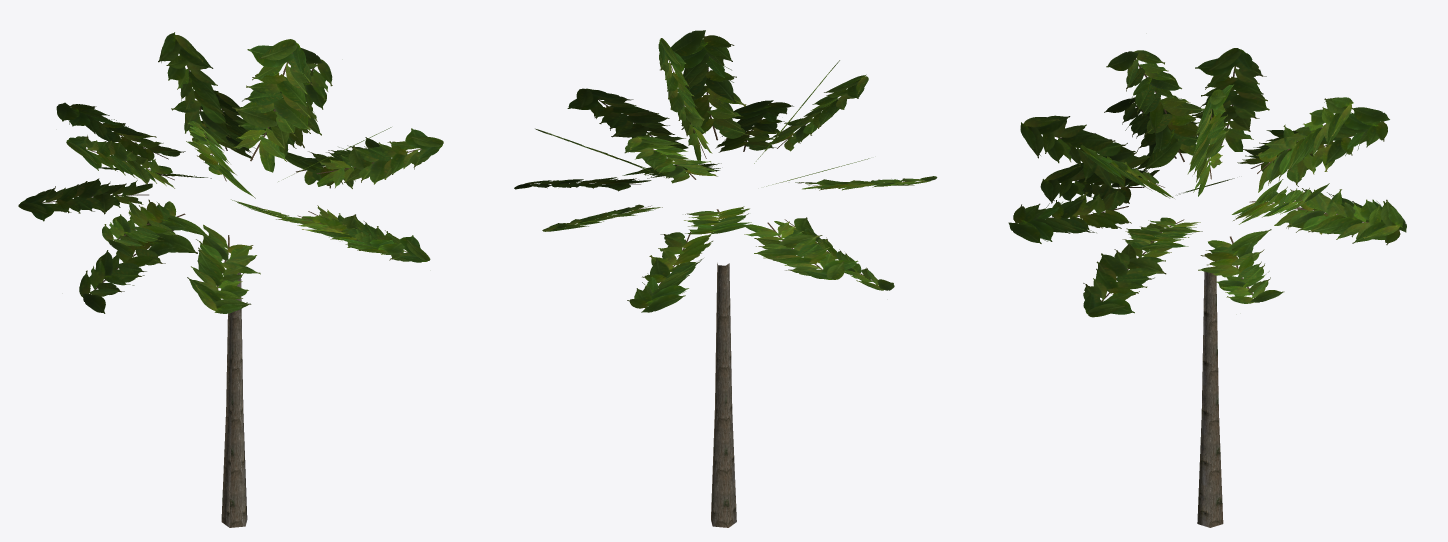
Rendered from tree_1_far.glb.
3 views of the same model, side by side, from view 1: azimuth 30°, elevation 25°; view 2: azimuth 150°, elevation 25°; view 3: azimuth 270°, elevation 25° (orthographic). The views are drawn at different scales.
Visible parts, largest first — view 1: TreeFar; view 2: TreeFar; view 3: TreeFar.
Part boxes in pixels (bbox=[...]): TreeFar: bbox=[18, 32, 443, 527]; TreeFar: bbox=[514, 30, 937, 527]; TreeFar: bbox=[1008, 48, 1406, 527].
Bounding box in the file's own units: 9.79 × 11.69 × 9.94.
2 materials, 2 textured.
